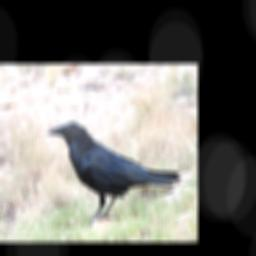Crow: (46, 121, 182, 225)
